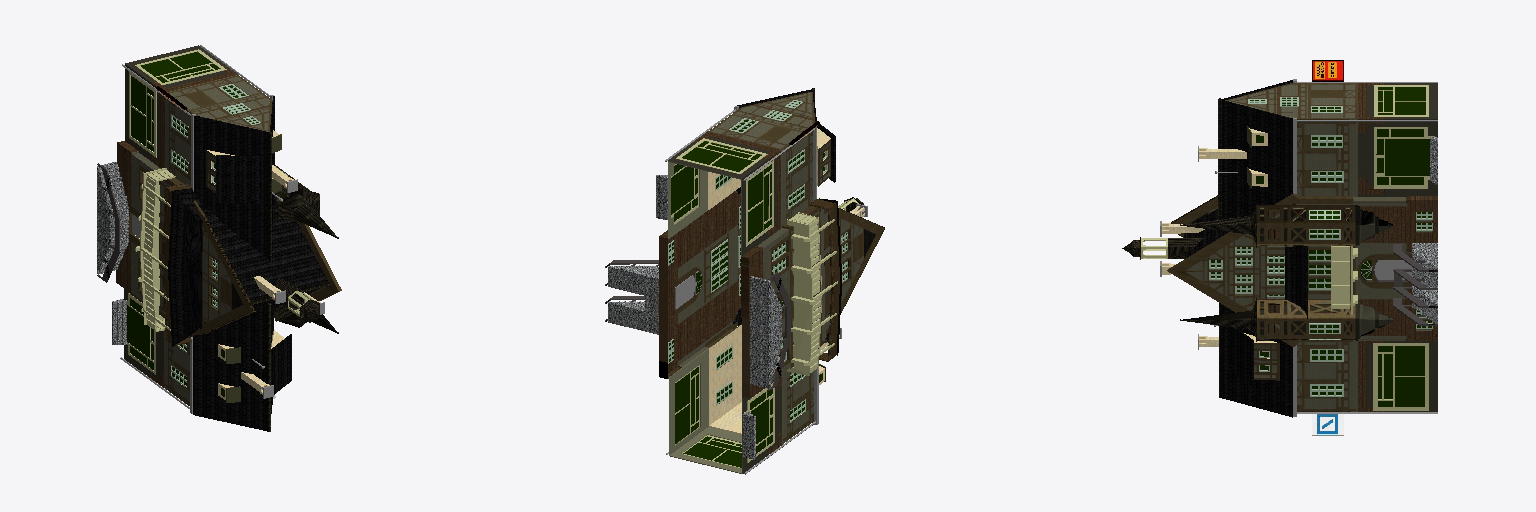
3 views of the same model, side by side, from view 1: azimuth 30°, elevation 25°; view 2: azimuth 150°, elevation 25°; view 3: azimuth 270°, elevation 25° (orthographic).
Parts seen in each view (by area): view 1: Pared_Alto; view 2: Pared_Alto; view 3: Pared_Alto.
Part boxes in pixels (x1,y1,x2,y2): Pared_Alto: (97, 45, 341, 431); Pared_Alto: (605, 88, 884, 474); Pared_Alto: (1122, 60, 1437, 435).
Size of the model in its own units: 65333 by 121258 by 106482.
32 materials, 17 textured.